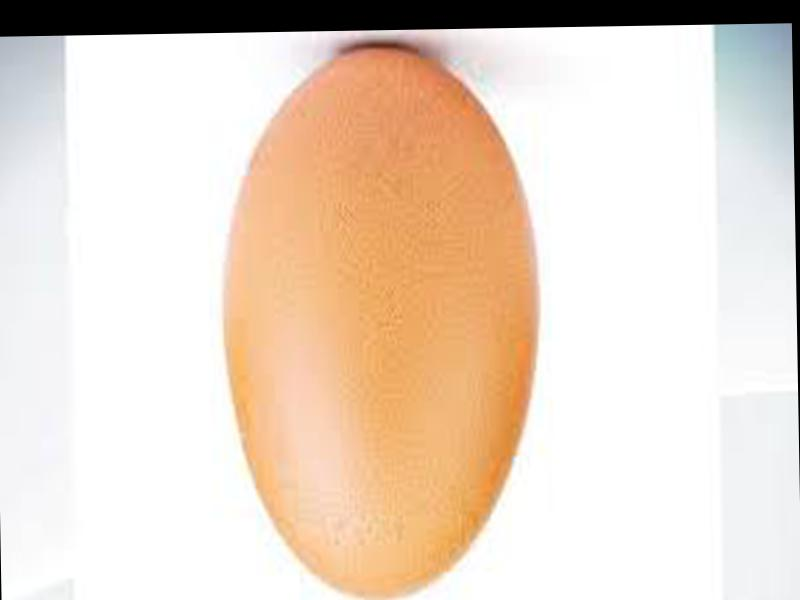Eggs: (219, 44, 543, 600)
